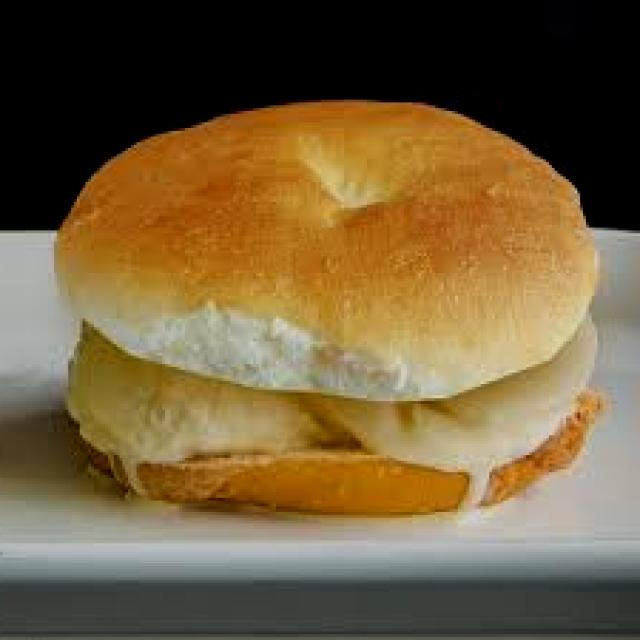wet: (46, 83, 583, 566)
